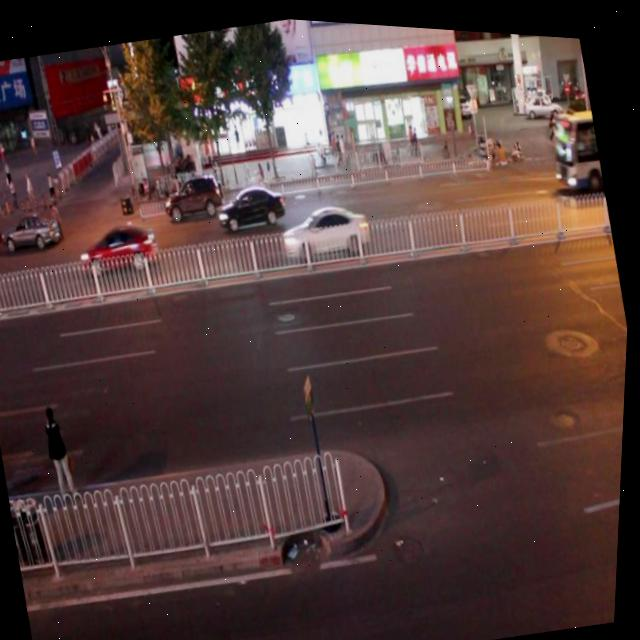car: (274, 187, 375, 265), (75, 212, 164, 280), (211, 170, 292, 235), (157, 164, 226, 225), (0, 202, 66, 260)
van: (542, 96, 609, 192)
